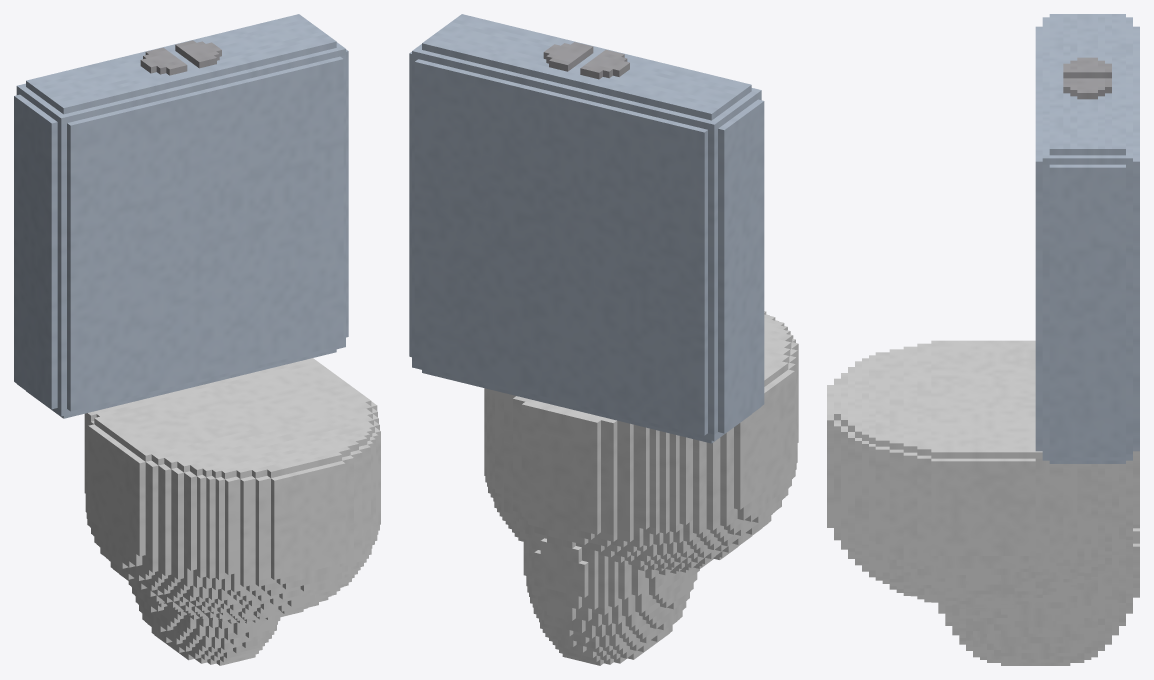
File: MediumObject_Toilet.fbx
The picture shows the model from 3 angles, left to right: view 1: azimuth 30°, elevation 25°; view 2: azimuth 150°, elevation 25°; view 3: azimuth 270°, elevation 25°; orthographic projection. The views are drawn at different scales.
Parts seen in each view (by area): view 1: Toilet; view 2: Toilet; view 3: Toilet.
Boxes of the visible parts, left/top/right/bottom form: Toilet: left=14, top=14, right=380, bottom=665; Toilet: left=409, top=14, right=798, bottom=665; Toilet: left=827, top=14, right=1139, bottom=665.
Bounding box in the file's own units: 50 × 91 × 45.
